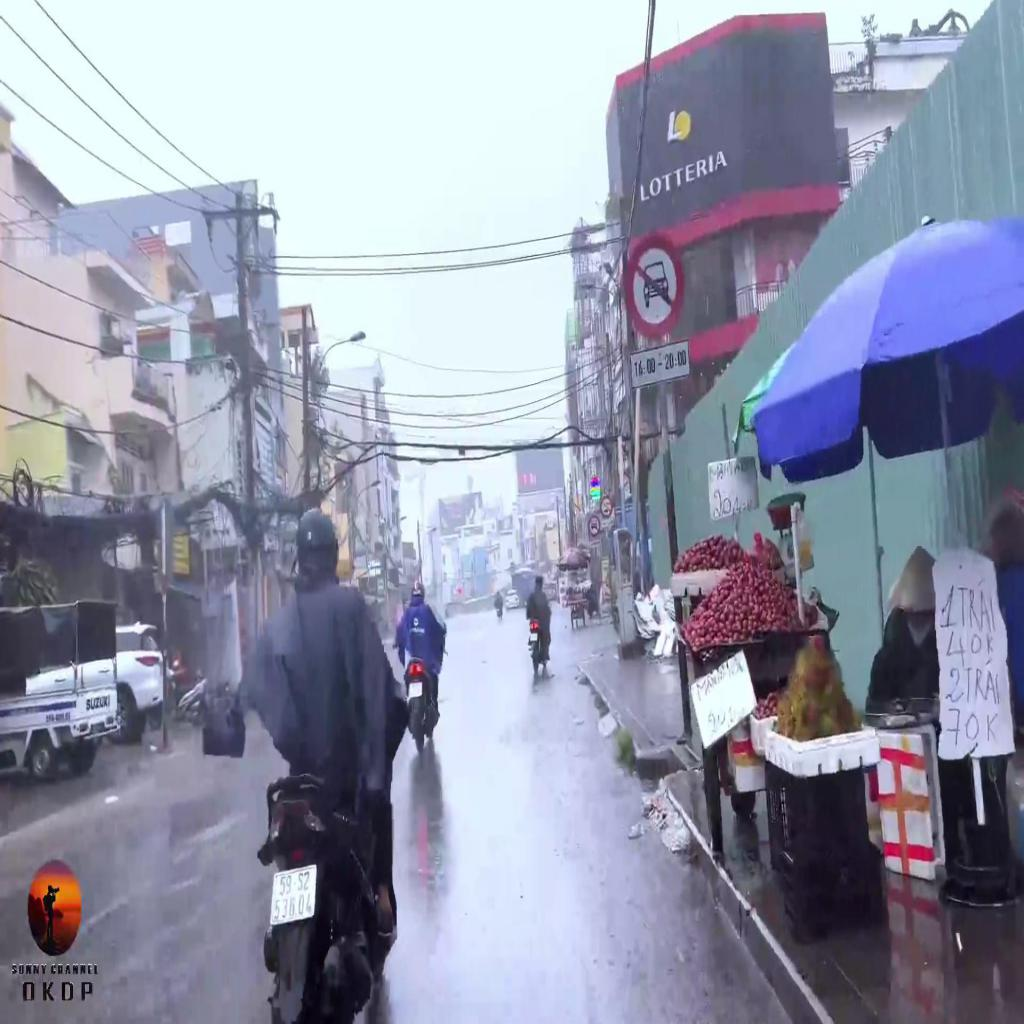cam_o_to: (626, 235, 684, 339), (588, 514, 601, 538)
cam_o_to_tai_va_xe_khach: (600, 496, 613, 519)
khac: (630, 339, 690, 390)
